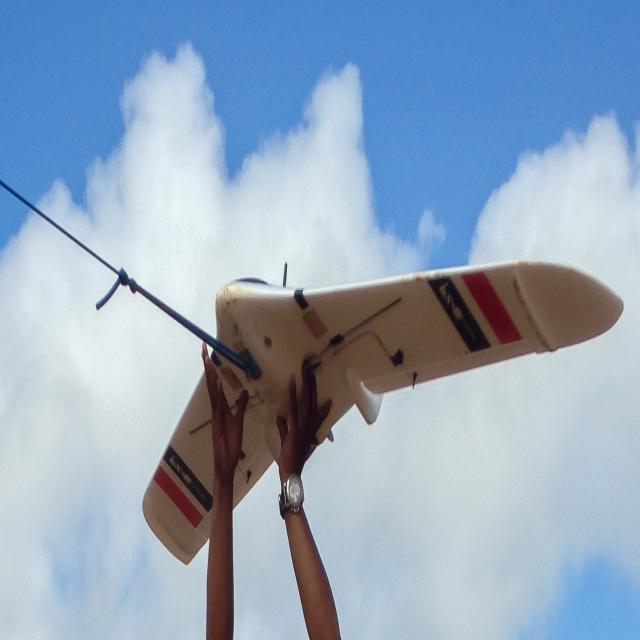iha: (136, 248, 626, 568)
